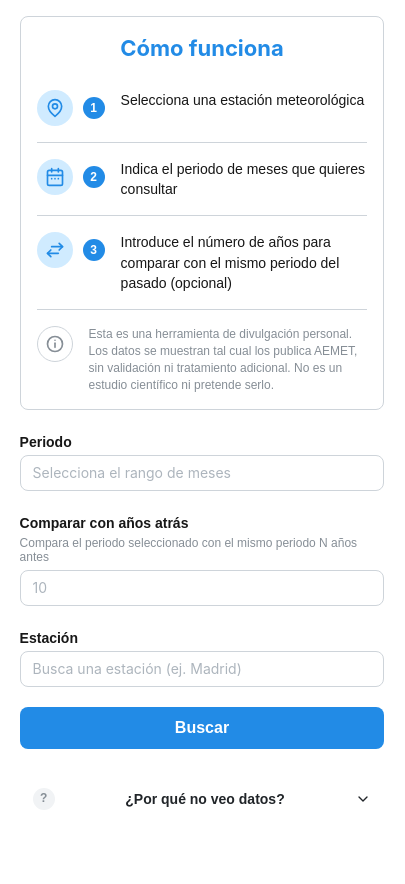
it: SearchSection › shows a message listing the missing fields when searching without completing the form
This screenshot has width=405, height=884.
Click the button "Buscar". click: {"x": 202, "y": 728}
box: [20,707,384,749]
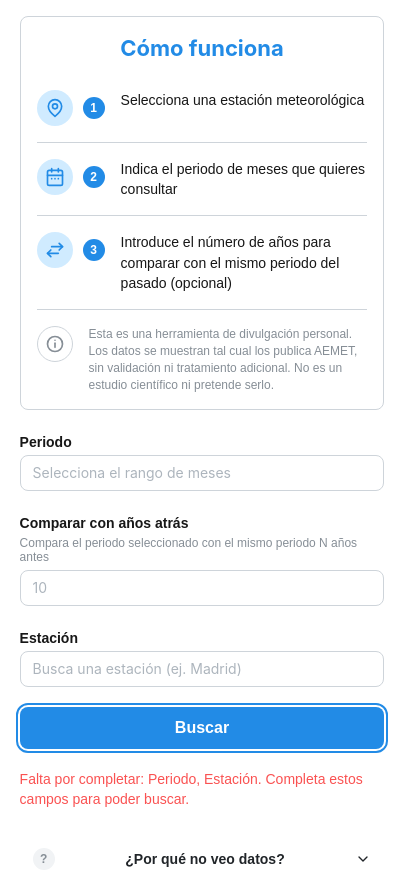
Expected: the message shows "Falta por completar: Periodo, Estación.", [20,769,384,809]
